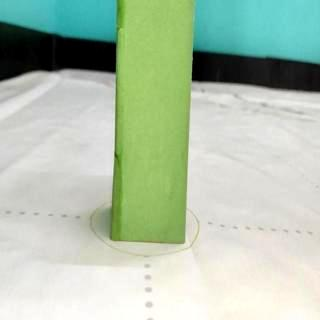greenbox: (110, 0, 194, 243)
